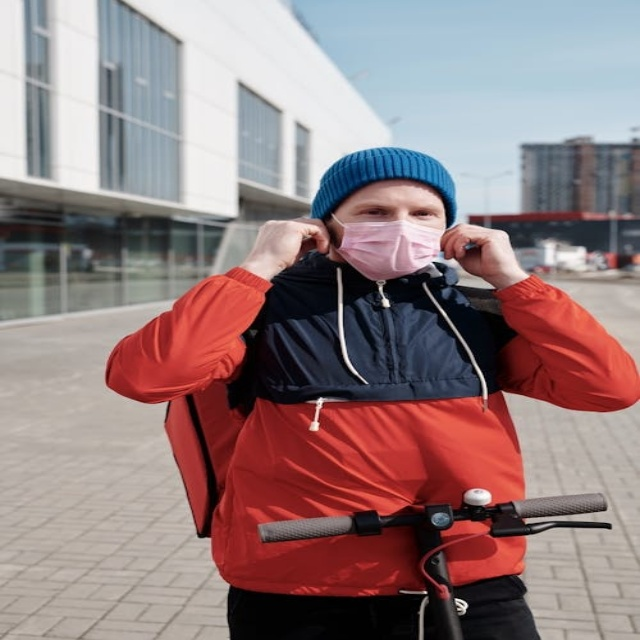Mascara: (328, 213, 445, 280)
Sin_gafas: (349, 200, 442, 226)
Sin_guantes: (438, 220, 518, 280), (246, 211, 330, 267)
